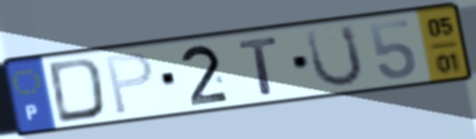2: (179, 42, 232, 108)
5: (367, 17, 420, 82)
D: (45, 55, 108, 126)
P: (102, 50, 156, 118)
T: (236, 34, 282, 98)
U: (303, 22, 367, 90)
